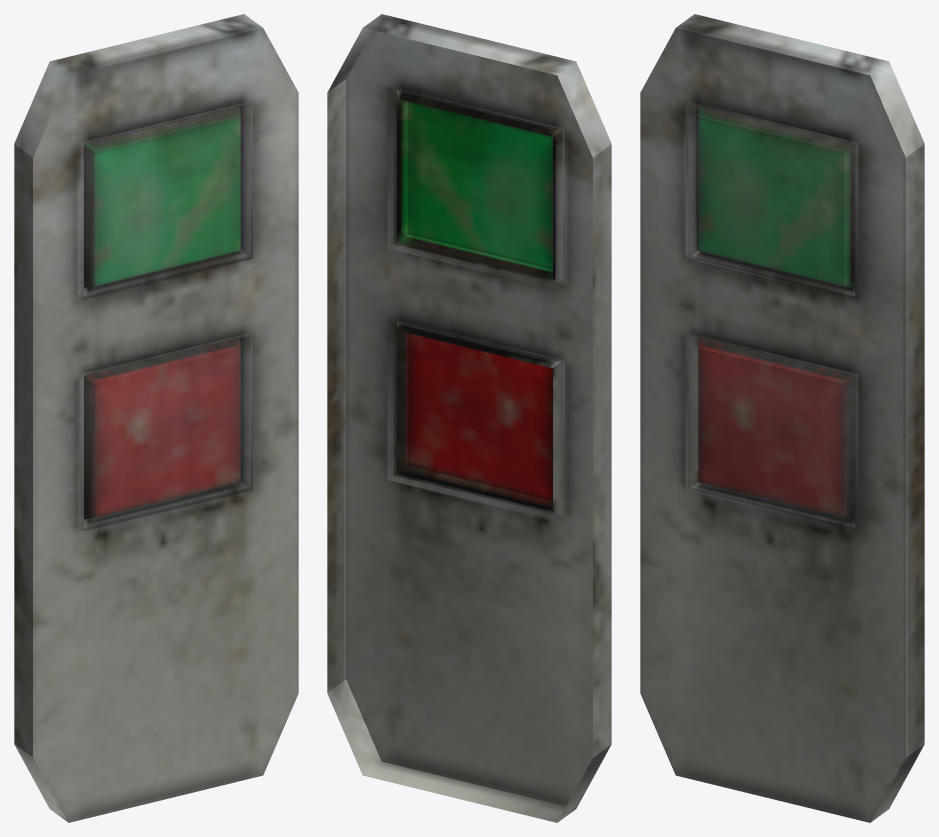
Rendered from LockIndicator.FBX.
3 views of the same model, side by side, from view 1: azimuth 30°, elevation 25°; view 2: azimuth 150°, elevation 25°; view 3: azimuth 330°, elevation 25° (orthographic).
Parts seen in each view (by area): view 1: LockIndicator; view 2: LockIndicator; view 3: LockIndicator.
Boxes of the visible parts, bbox=[...] form: LockIndicator: bbox=[14, 14, 298, 822]; LockIndicator: bbox=[327, 14, 611, 822]; LockIndicator: bbox=[640, 14, 924, 822].
Bounding box in the file's own units: 13.7 × 36.85 × 2.29.
